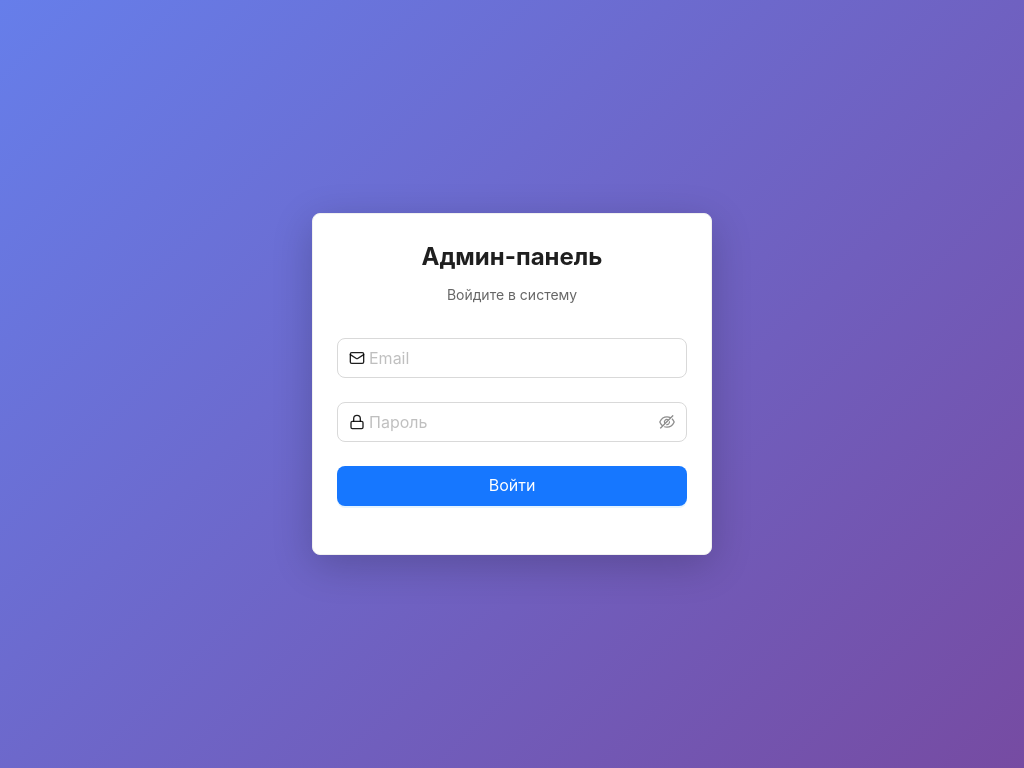
Test: LoginPage › должен валидировать форму
Click the button "Войти" at (512, 486), box [337,466,687,506]
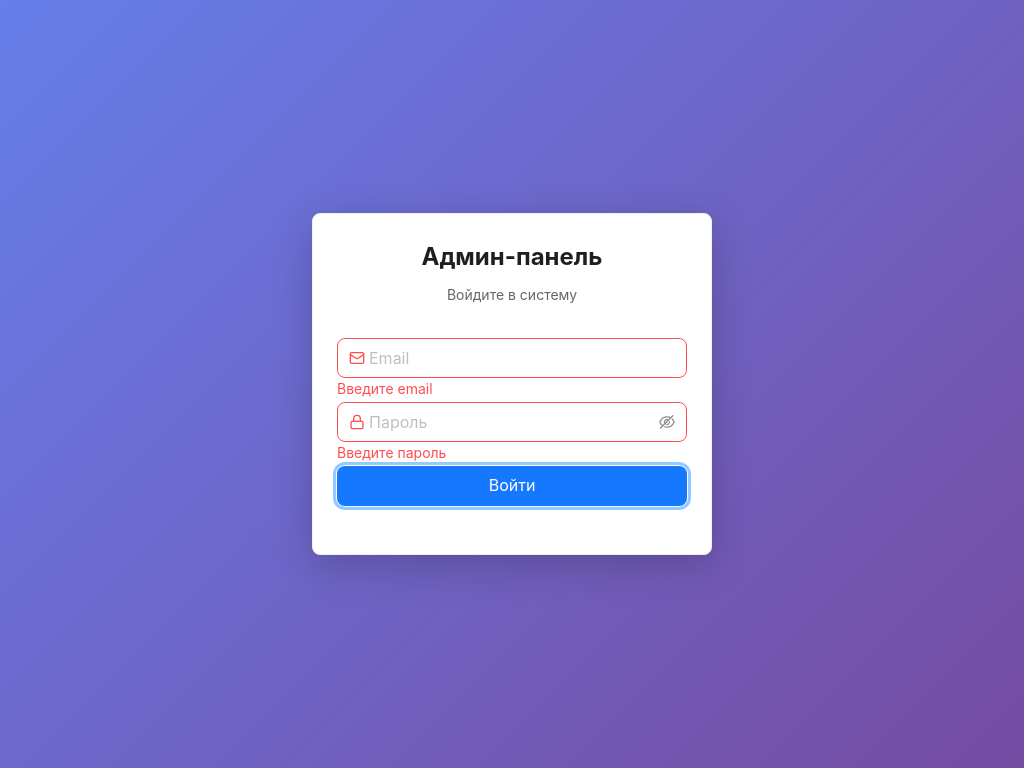
Now the text "Введите email" is shown, box [337,380,433,397]
